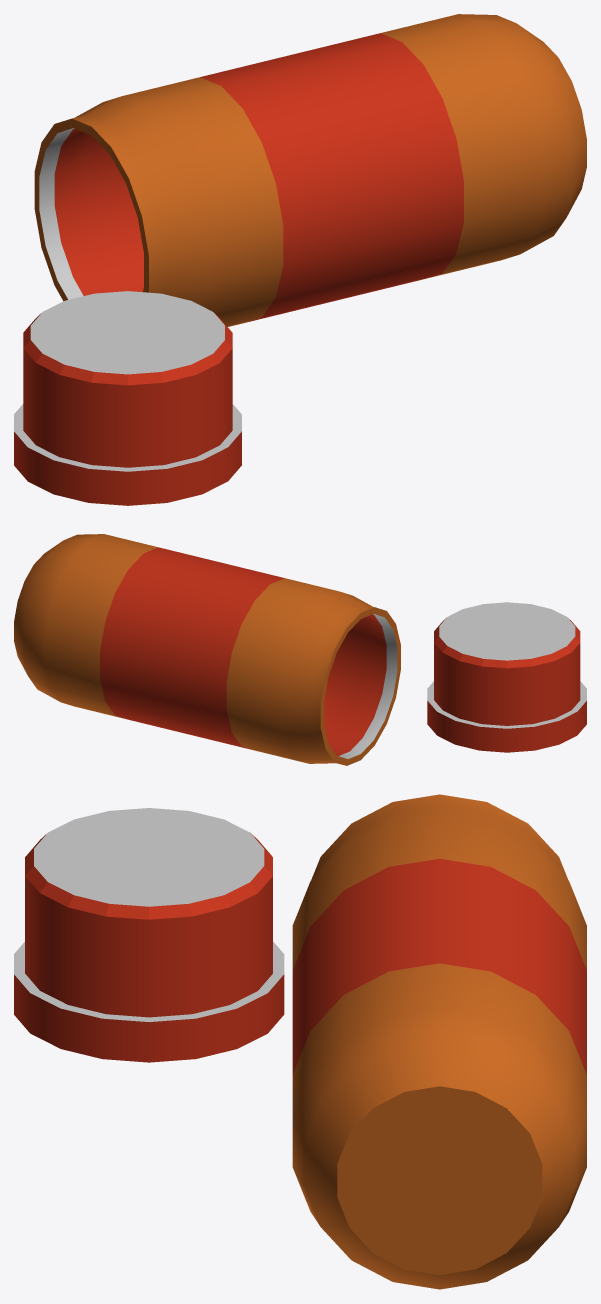
Rendered from Boite_Pillule_Renversee.fbx.
3 renders of one model, top to bottom at view 1: azimuth 30°, elevation 25°; view 2: azimuth 150°, elevation 25°; view 3: azimuth 270°, elevation 25°, orthographic. The views are drawn at different scales.
Parts seen in each view (by area): view 1: Boite_Pillule_Renversee; view 2: Boite_Pillule_Renversee; view 3: Boite_Pillule_Renversee.
Part boxes in pixels (left/top/right/bottom): Boite_Pillule_Renversee: left=14, top=14, right=586, bottom=505; Boite_Pillule_Renversee: left=14, top=534, right=586, bottom=765; Boite_Pillule_Renversee: left=14, top=794, right=586, bottom=1289.
Bounding box in the file's own units: 16.89 × 5.77 × 11.07.
